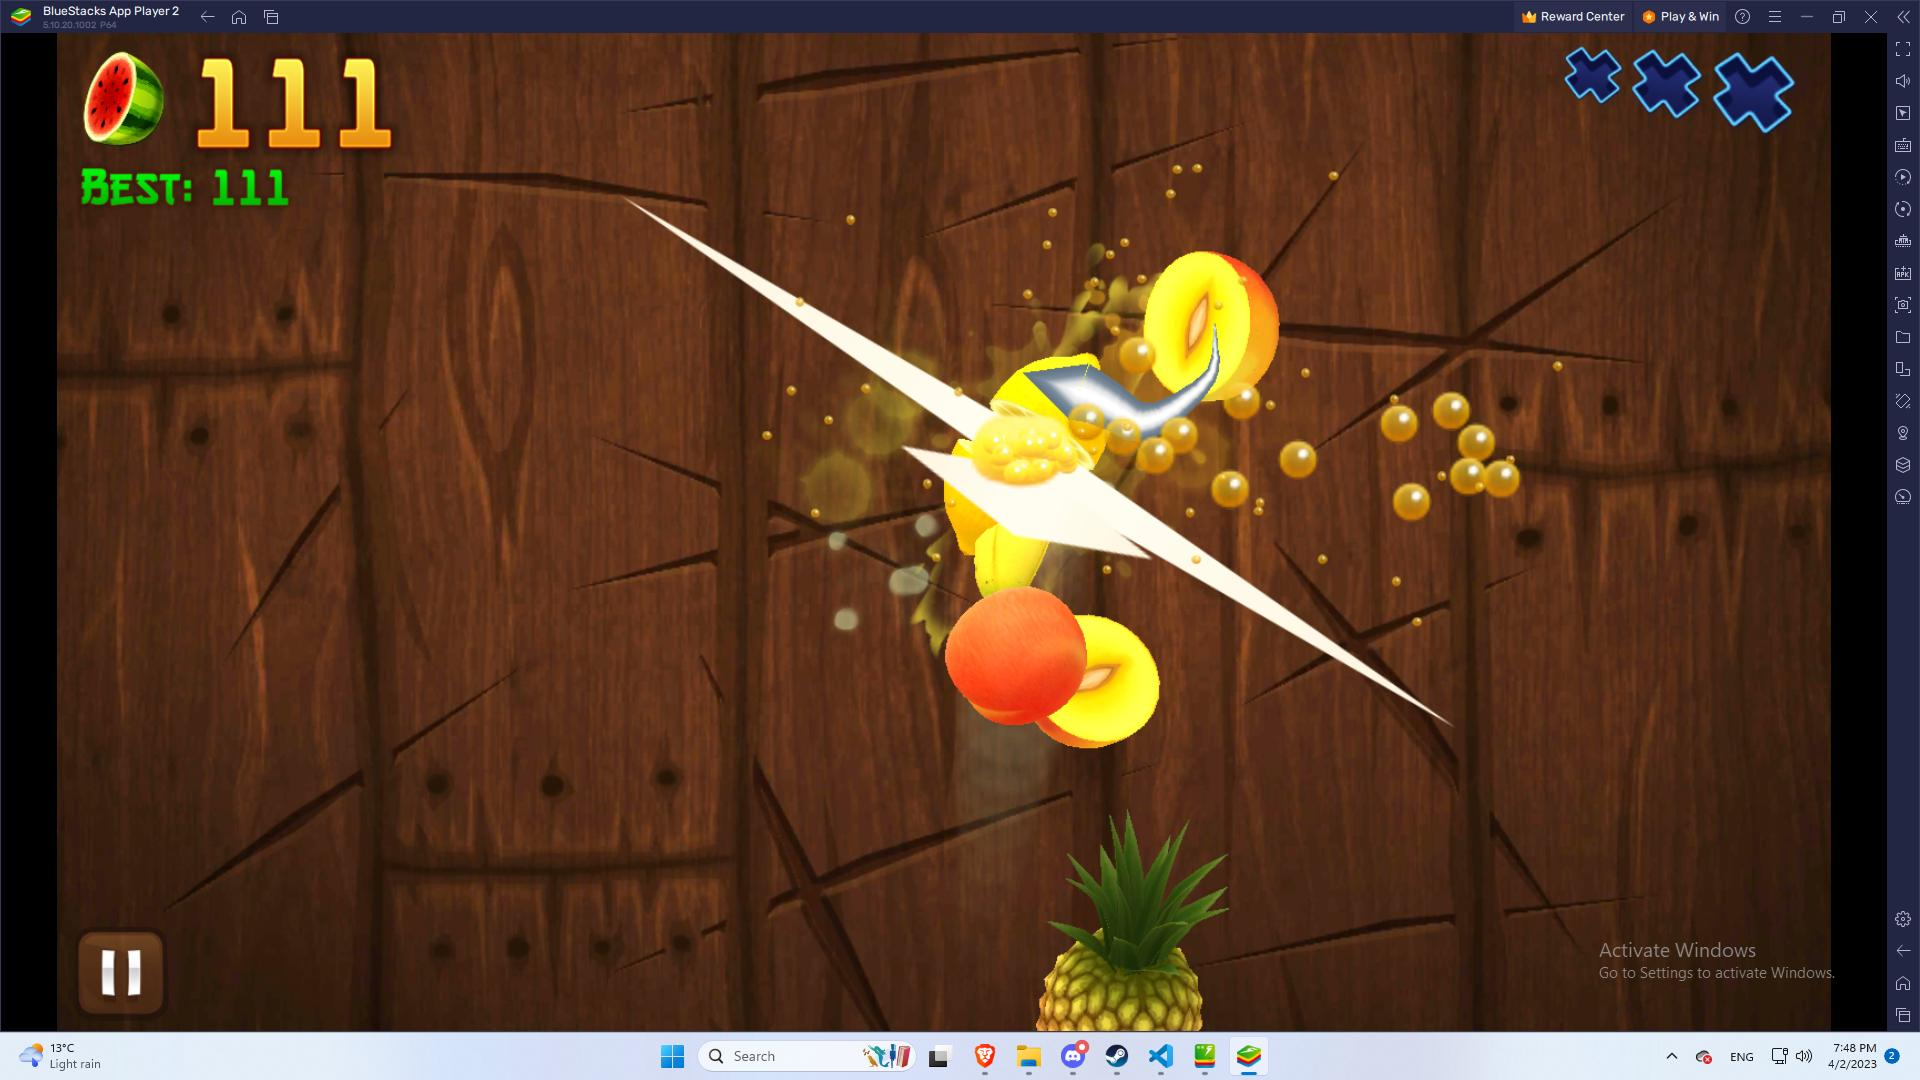fruit: (971, 802, 1275, 1031), (919, 583, 1104, 731)
